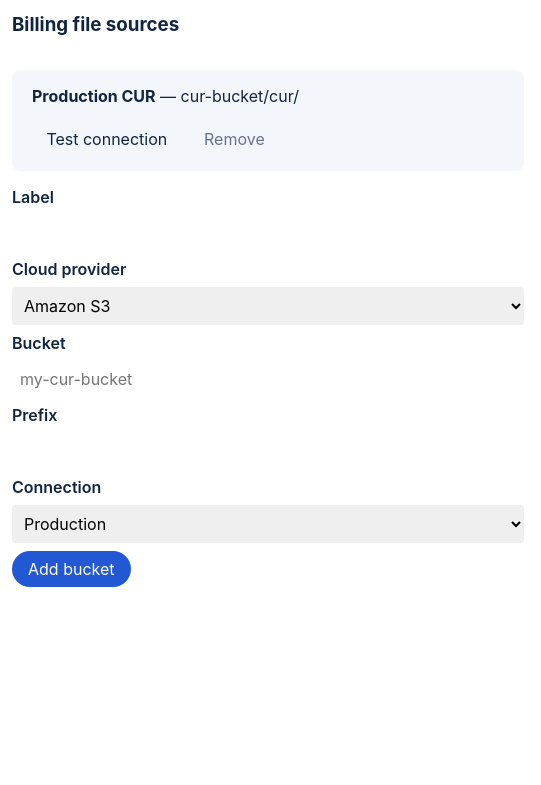
Test: BillingFileSourcesPanel › testing a bucket › reports a healthy container without importing anything
Click the button "Test connection": (107, 139) [32, 122, 182, 155]
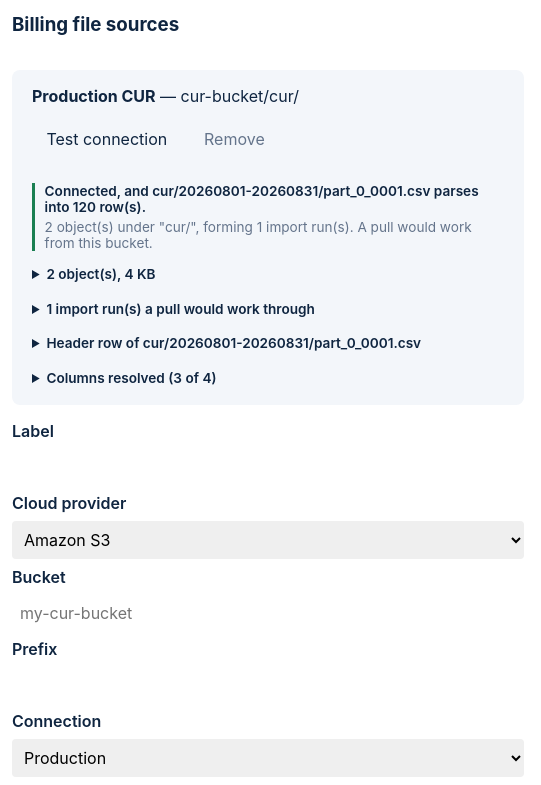
Now the text "parses into 120 row(s)" is shown, box [45, 183, 479, 215]
